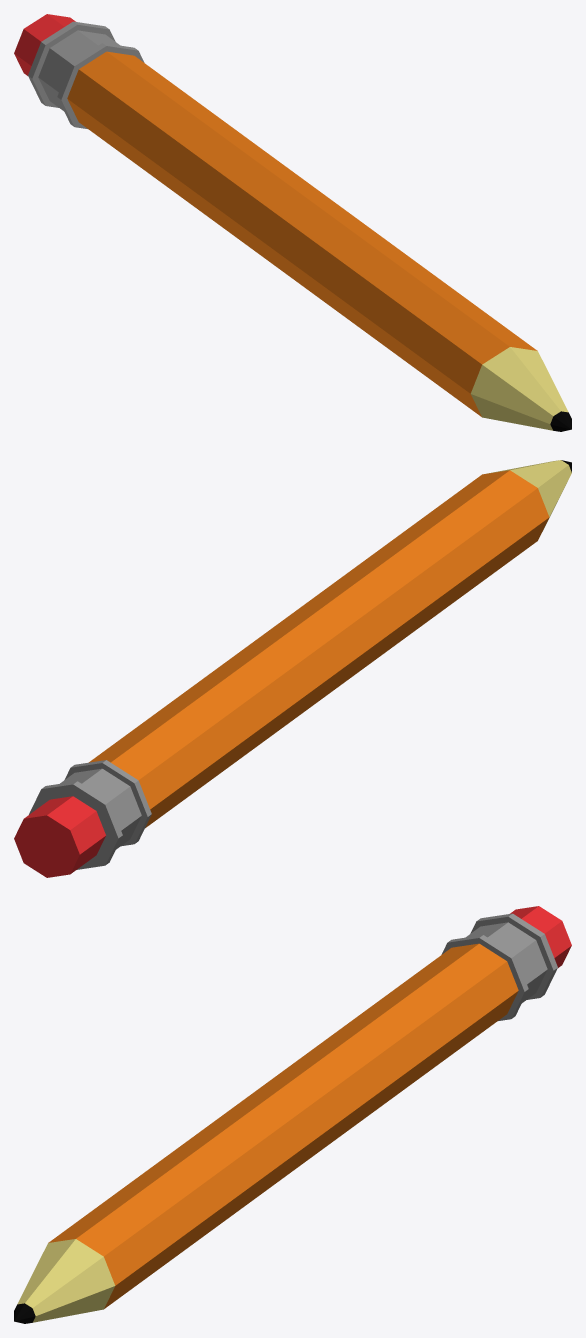
The model's file is pencil.fbx.
The picture shows the model from 3 angles, top to bottom: view 1: azimuth 30°, elevation 25°; view 2: azimuth 150°, elevation 25°; view 3: azimuth 330°, elevation 25°; orthographic projection.
Parts seen in each view (by area): view 1: Cube, Cube.002, Cube.003, Cube.004; view 2: Cube, Cube.003, Cube.004, Cube.002; view 3: Cube, Cube.002, Cube.003, Cube.004.
Boxes of the visible parts, x1,y1,x2,y2 form: Cube: (67,51,537,416); Cube.002: (470,347,568,430); Cube.003: (28,21,144,128); Cube.004: (14,14,75,75); Cube: (89,470,549,828); Cube.003: (29,760,151,869); Cube.004: (14,796,105,877); Cube.002: (487,460,571,531); Cube: (48,943,518,1308); Cube.002: (17,1239,115,1322); Cube.003: (441,913,557,1020); Cube.004: (510,906,571,967).
Bounding box in the file's own units: 1.29 × 1.17 × 12.92.
